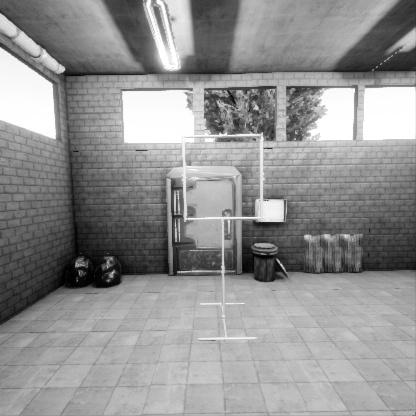gate: (181, 198, 268, 286)
